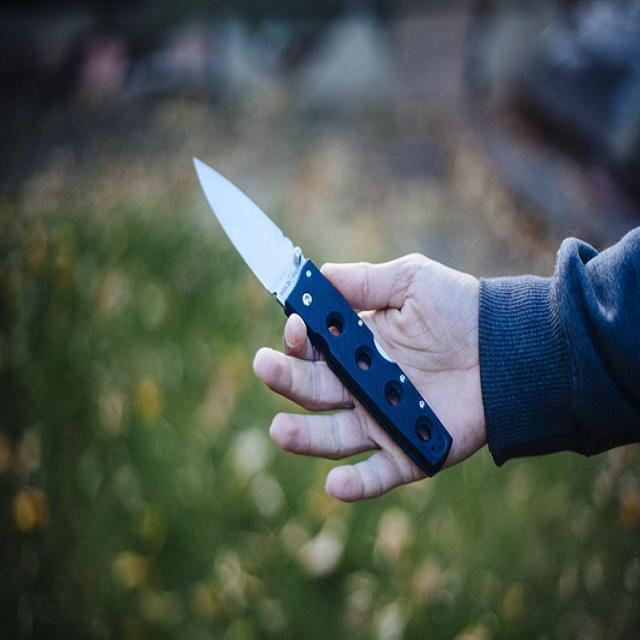knife: (188, 151, 458, 477)
